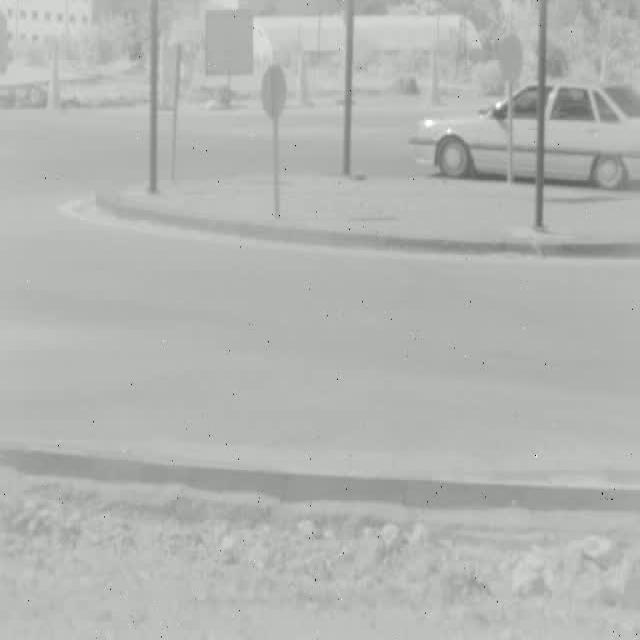Car: (408, 81, 640, 189)
